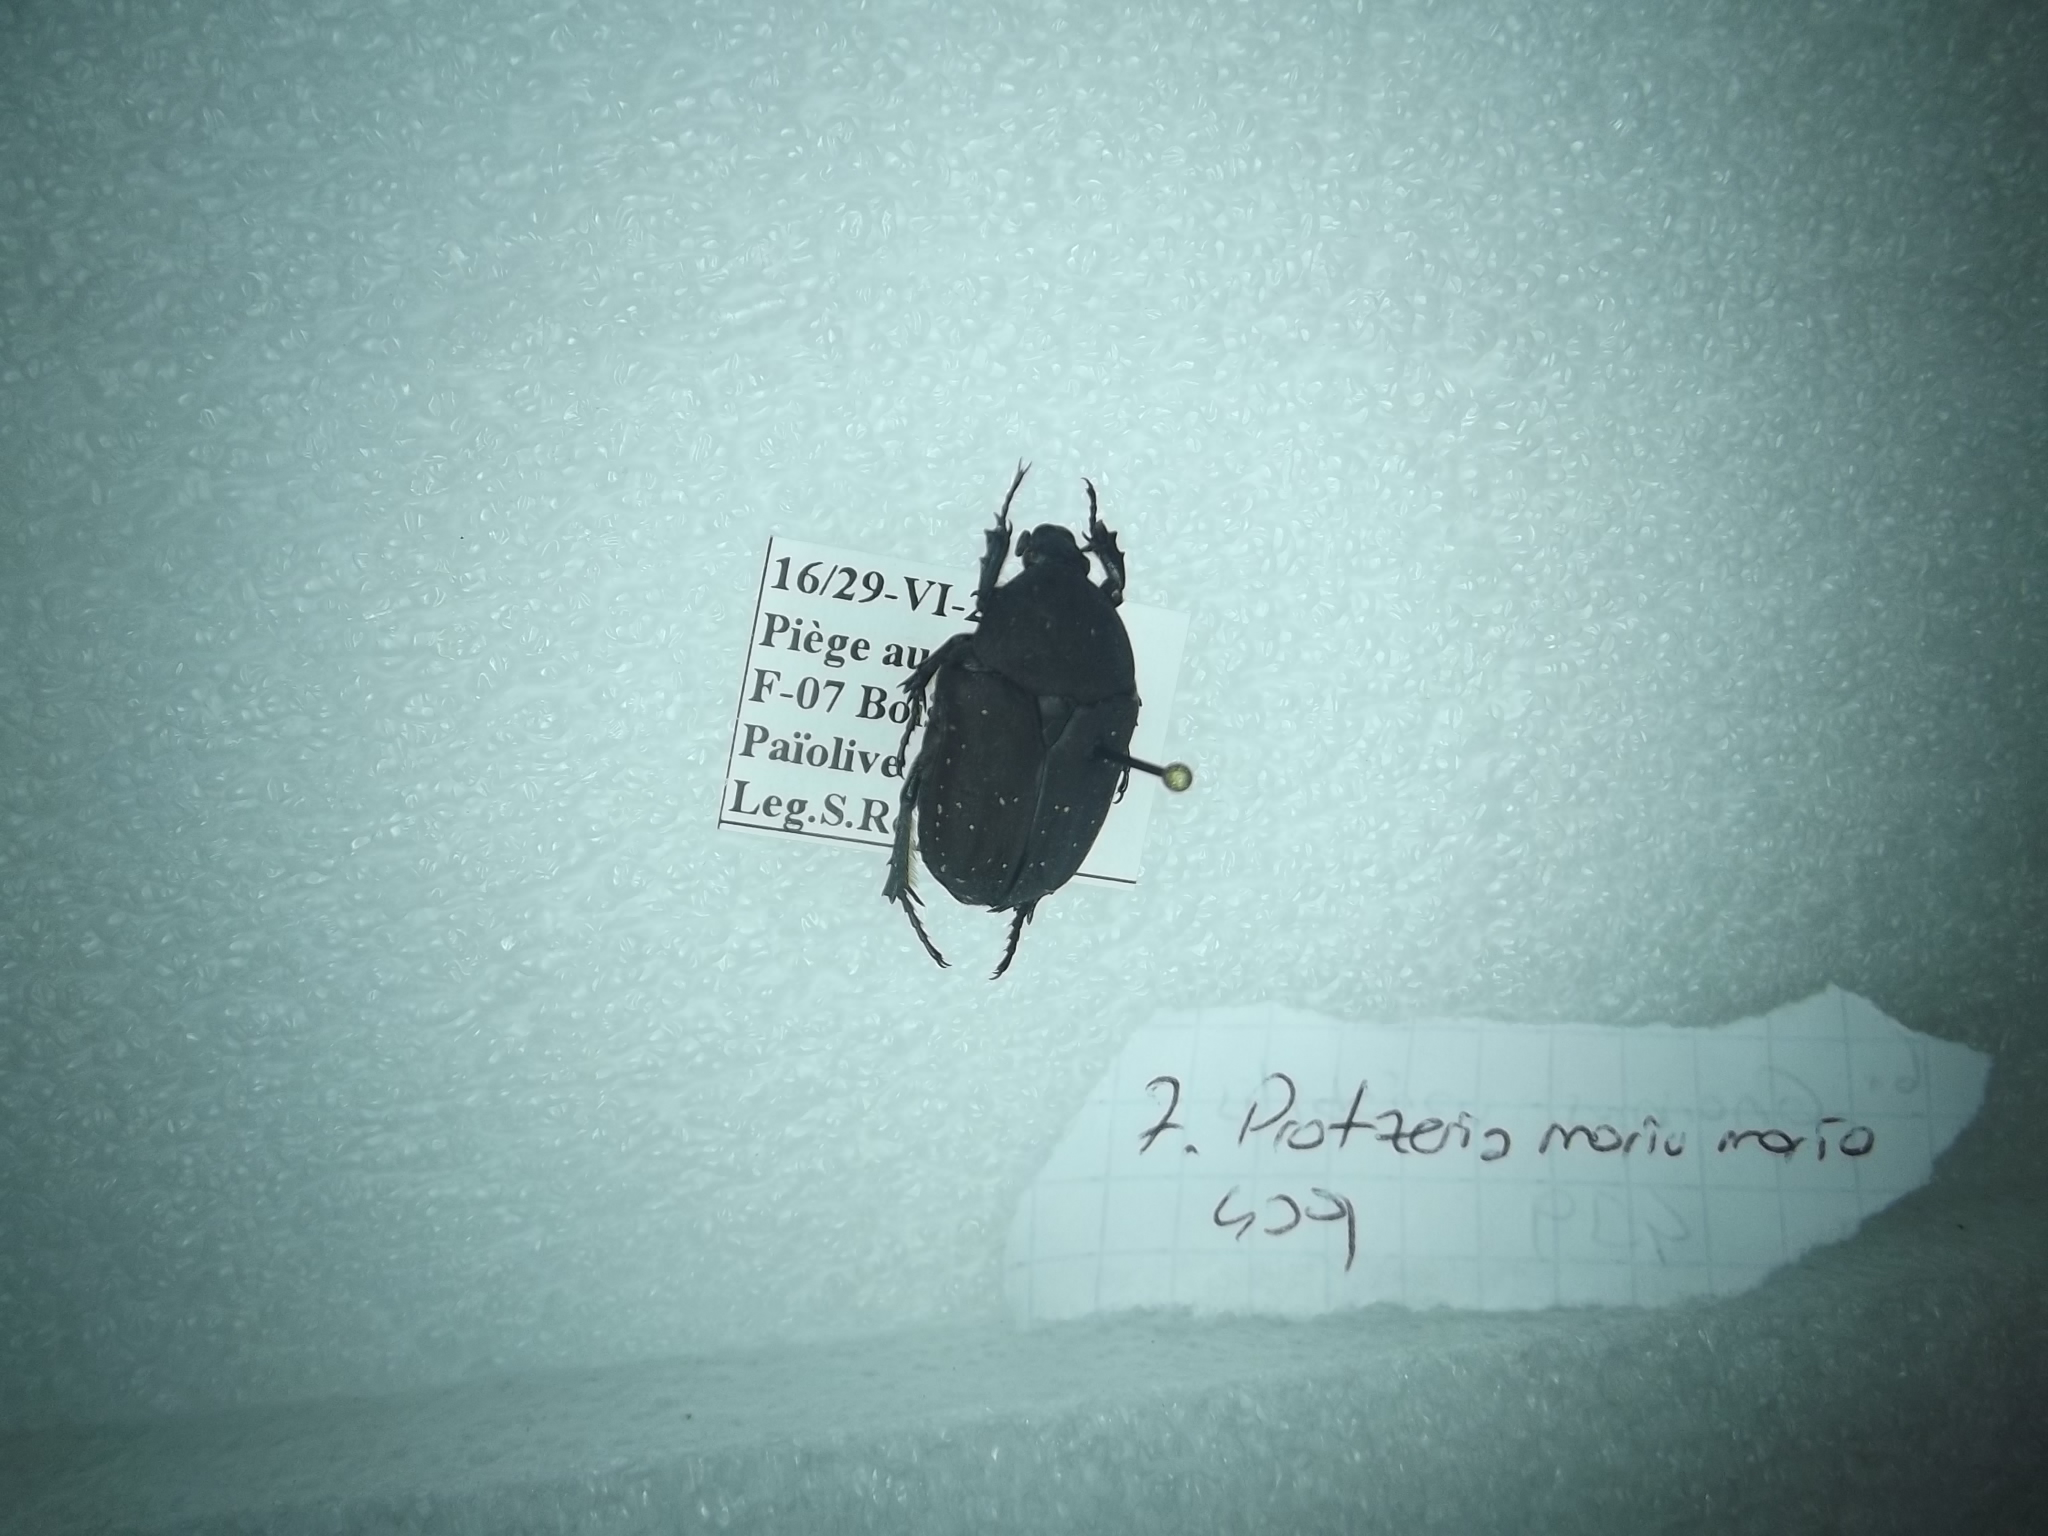Protaetia_morio_morio: (843, 453, 1155, 984)
